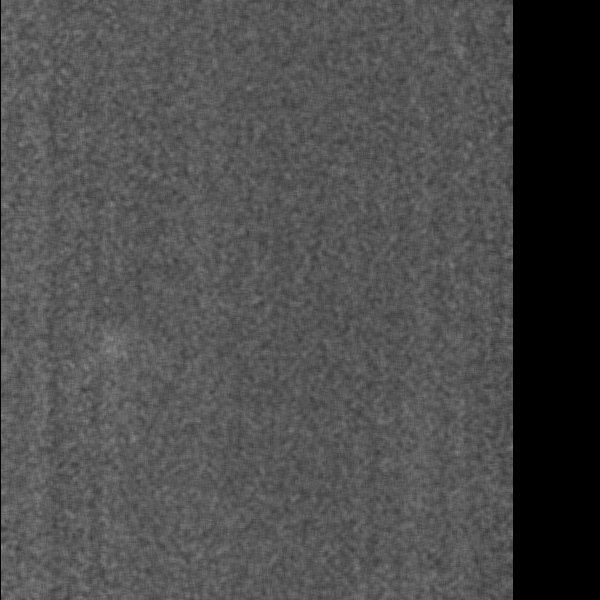spark: (93, 324, 137, 366)
